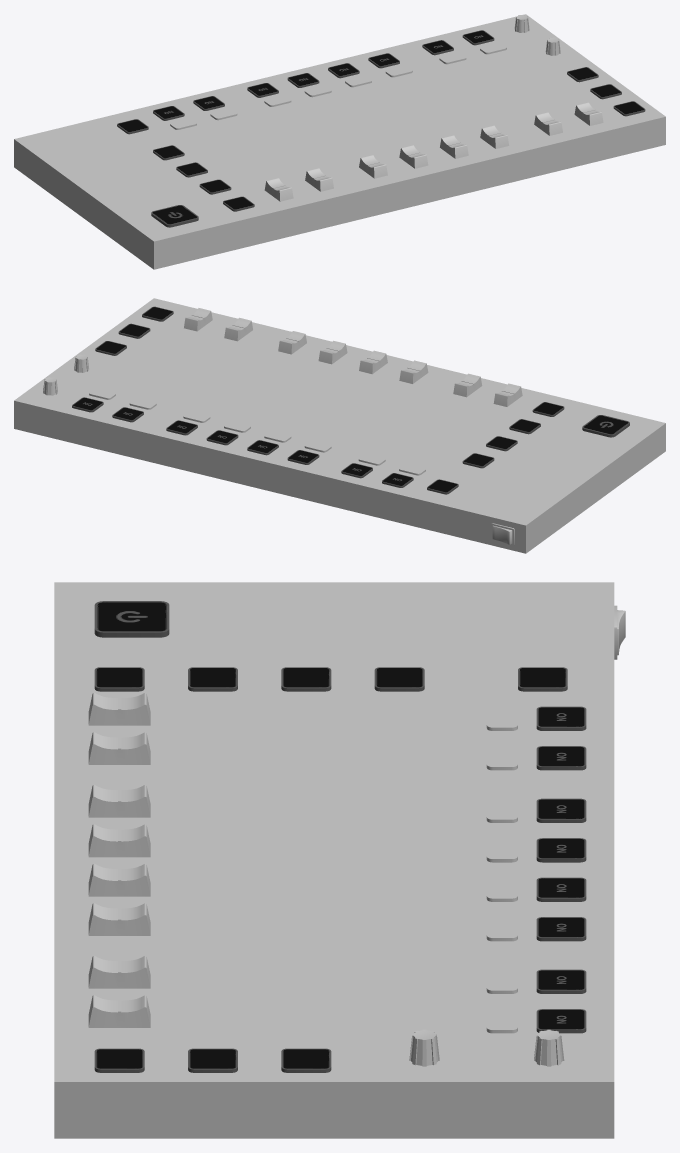
Rendered from MIDI Controller.fbx.
The picture shows the model from 3 angles, top to bottom: view 1: azimuth 30°, elevation 25°; view 2: azimuth 150°, elevation 25°; view 3: azimuth 270°, elevation 25°; orthographic projection. The views are drawn at different scales.
Visible parts, largest first — view 1: Cube, PowerButton, Fader01, Fader01.003, Fader01.001, Fader01.002, Fader01.007, Fader01.004, Fader01.005, Fader01.006; view 2: Cube, PowerButton, Fader01.001, Fader01.006, Fader01.007, Fader01.002, Fader01, Fader01.003, Fader01.004, Fader01.005, PowerSwitch; view 3: Cube, PowerButton, Fader01.003, Fader01.004, Fader01.006, Fader01, Fader01.002, Fader01.005, Fader01.001, Fader01.007, Button.001, Button.003 (+16 smaller).
Part boxes in pixels (box(x1,y1,x2,y2)): Cube: box(14, 14, 665, 269); PowerButton: box(151, 205, 198, 227); Fader01: box(264, 178, 293, 201); Fader01.003: box(399, 145, 428, 168); Fader01.001: box(305, 168, 333, 191); Fader01.002: box(359, 155, 387, 178); Fader01.007: box(574, 102, 603, 125); Fader01.004: box(440, 135, 468, 158); Fader01.005: box(480, 125, 509, 148); Fader01.006: box(534, 112, 562, 135); Cube: box(14, 298, 665, 553); PowerButton: box(582, 415, 629, 437); Fader01.001: box(453, 373, 482, 397); Fader01.006: box(224, 317, 252, 341); Fader01.007: box(184, 308, 212, 331); Fader01.002: box(399, 360, 428, 383); Fader01: box(493, 383, 522, 406); Fader01.003: box(359, 350, 387, 374); Fader01.004: box(318, 340, 347, 364); Fader01.005: box(278, 331, 306, 354); PowerSwitch: box(491, 523, 514, 545); Cube: box(54, 582, 614, 1138); PowerButton: box(94, 601, 169, 637); Fader01.003: box(88, 824, 150, 857); Fader01.004: box(88, 863, 150, 896); Fader01.006: box(88, 955, 150, 988); Fader01: box(88, 692, 150, 725); Fader01.002: box(88, 785, 150, 817); Fader01.005: box(88, 903, 150, 935); Fader01.001: box(88, 732, 150, 764); Fader01.007: box(88, 995, 150, 1027); Button.001: box(94, 667, 144, 691); Button.003: box(281, 667, 331, 691).
Size of the model in its own units: 3.8 by 0.2975 by 1.84.
